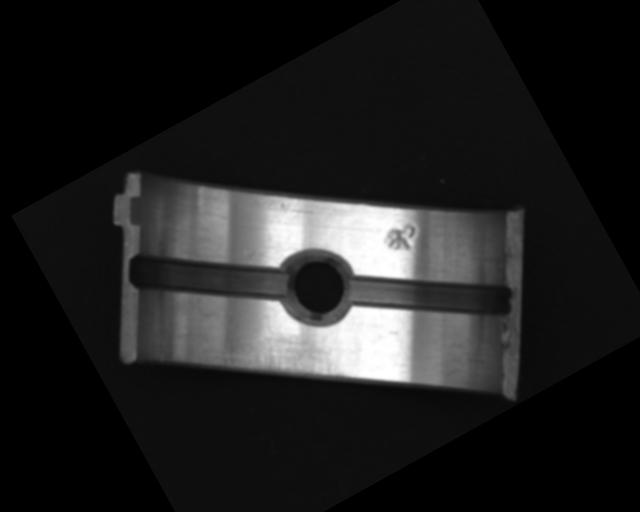bruise: (378, 217, 426, 263)
gap: (342, 214, 518, 377), (121, 199, 295, 359)
hole: (267, 234, 370, 338)
scratch: (207, 298, 352, 433)
